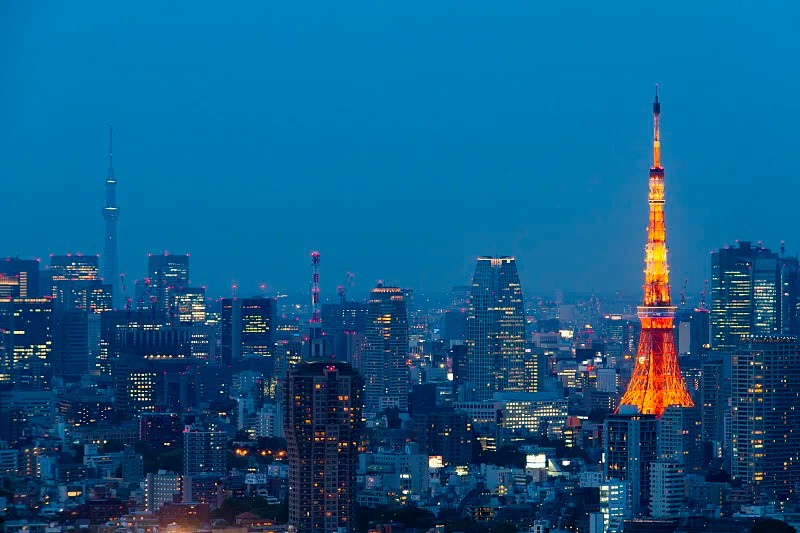Tokyo: (613, 80, 696, 418)
